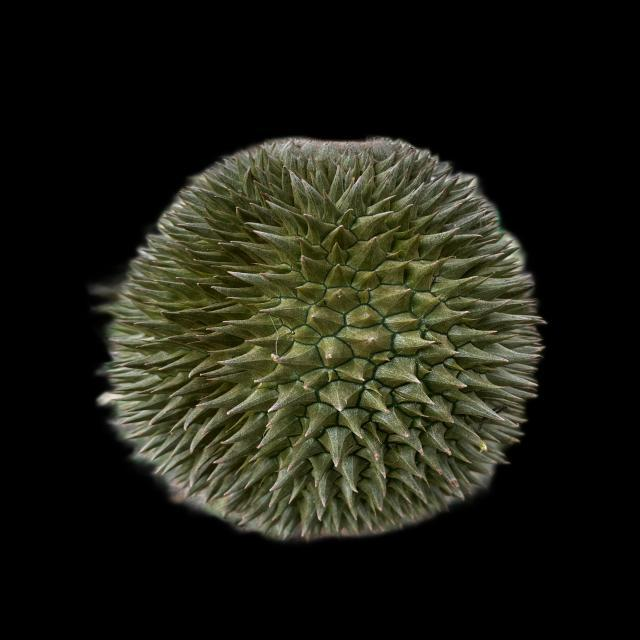immature: (101, 130, 547, 542)
